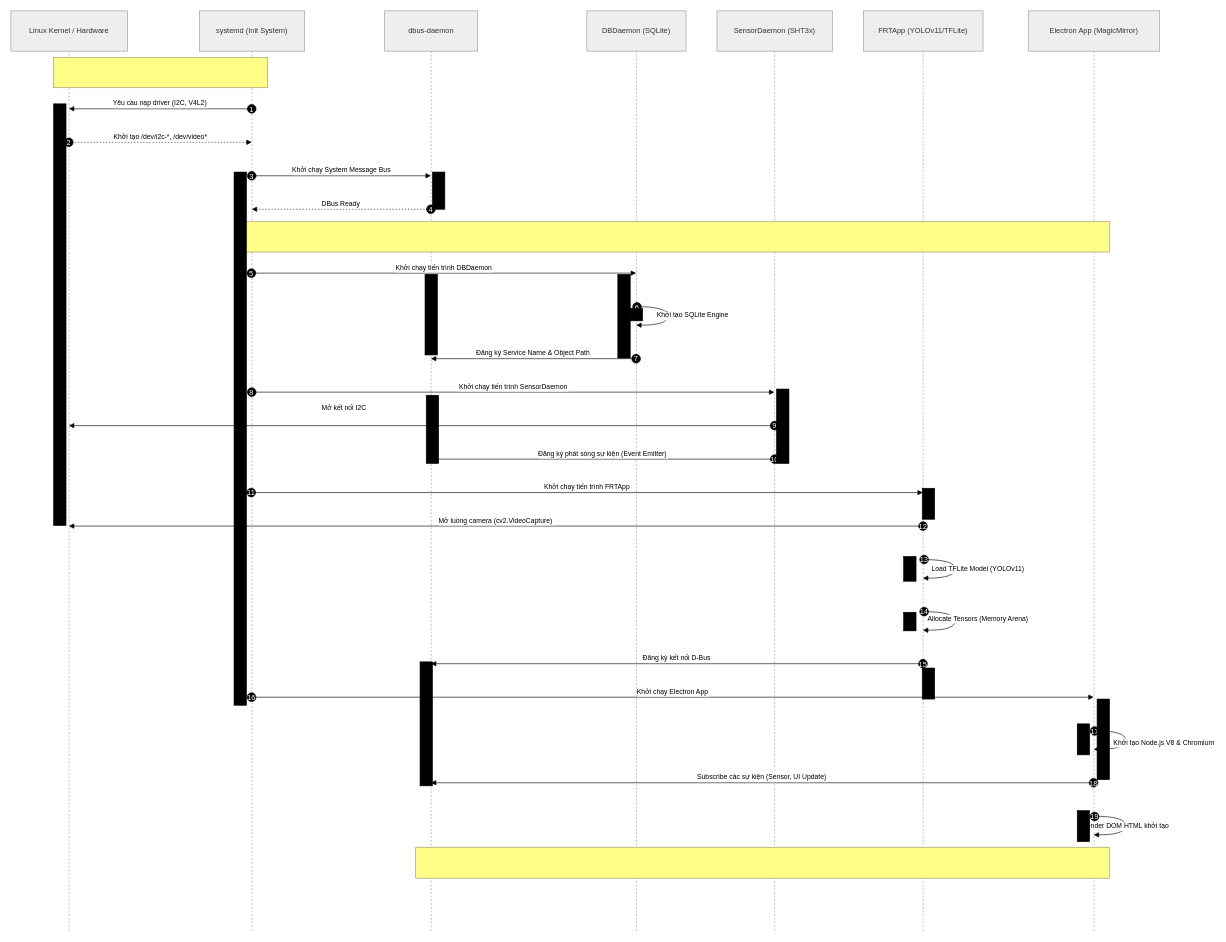
Image size: 1226x942. Some labels were removed from this diagram. Each missing label, with the centre of its shape:
Giai đoạn 1: OS & Hardware Init: pixel 160 72
Giai đoạn 2: Khởi chạy các Module cốt lõi: pixel 672 236
Giai đoạn 3: Hệ thống ở trạng thái READY (Sẵn sàng phục vụ): pixel 762 862
